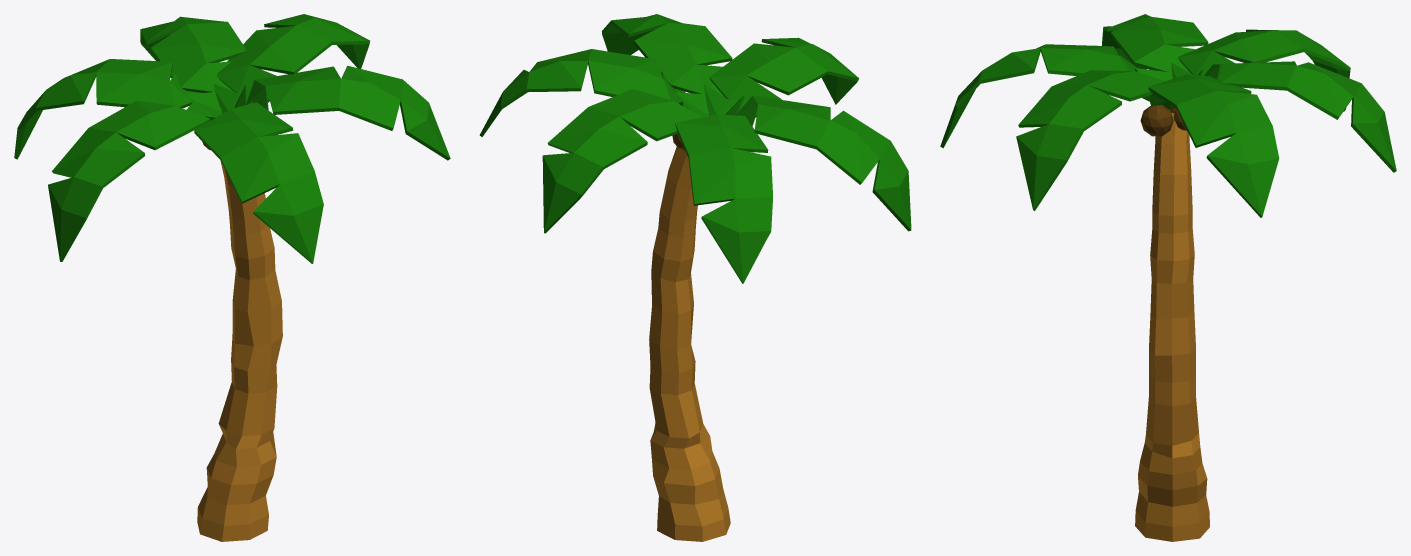
Rendered from palm-tree2.fbx.
The picture shows the model from 3 angles, left to right: view 1: azimuth 30°, elevation 25°; view 2: azimuth 150°, elevation 25°; view 3: azimuth 270°, elevation 25°; orthographic projection. The views are drawn at different scales.
Parts seen in each view (by area): view 1: leaf, trunk; view 2: leaf, trunk; view 3: leaf, trunk, ball.002.
Boxes of the visible parts, bbox=[...] form: leaf: bbox=[14, 14, 450, 263]; trunk: bbox=[197, 160, 282, 541]; leaf: bbox=[479, 14, 911, 283]; trunk: bbox=[649, 146, 730, 541]; leaf: bbox=[940, 14, 1396, 217]; trunk: bbox=[1135, 112, 1209, 541]; ball.002: bbox=[1140, 104, 1186, 136].
Bounding box in the file's own units: 1676 × 2020 × 1746.
